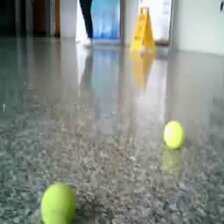tennis: (39, 183, 77, 224), (163, 121, 184, 149)
